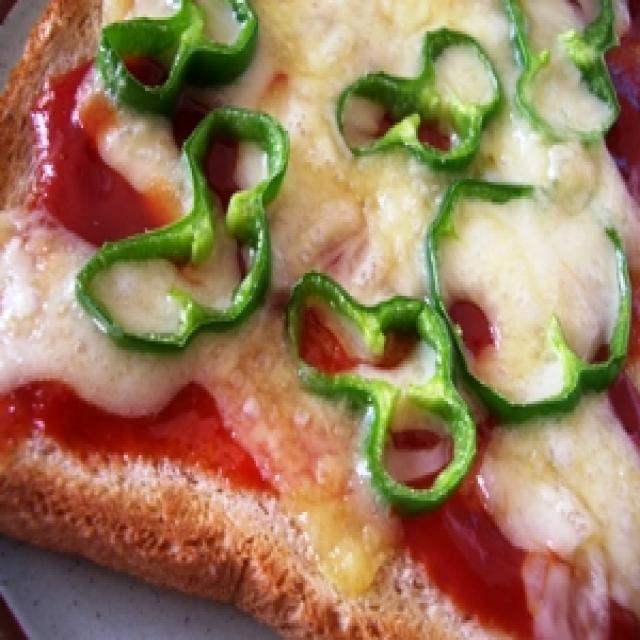面包点心: (11, 8, 629, 623)
